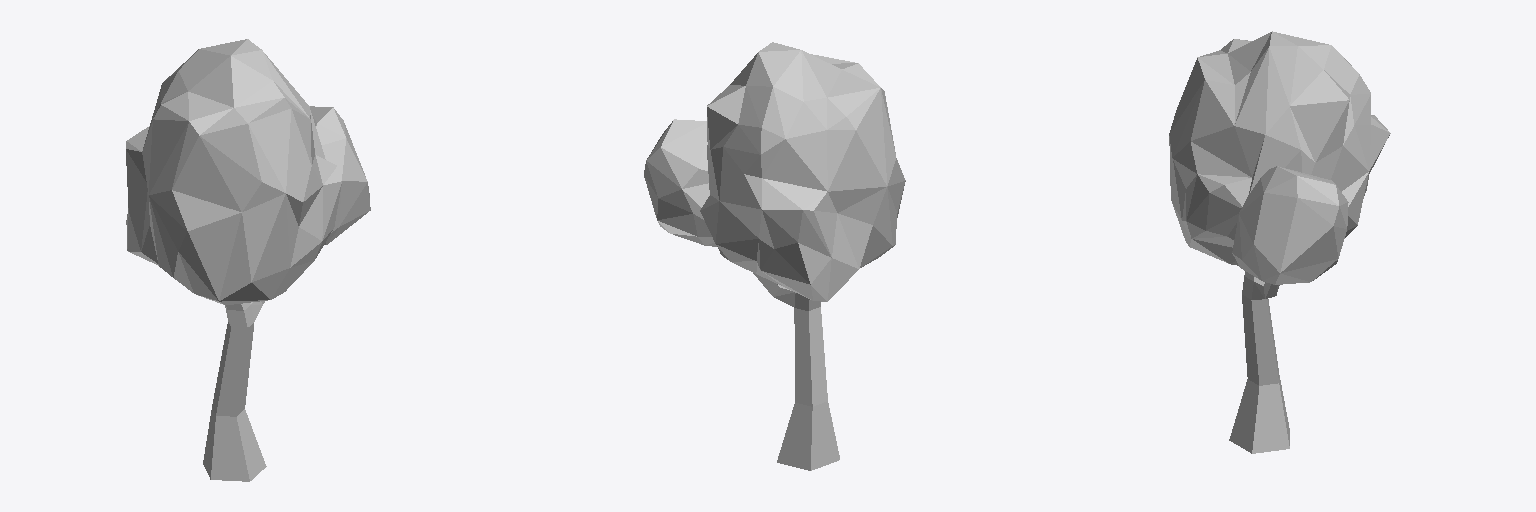
The model's file is paintable_Tree.obj.
The picture shows the model from 3 angles: view 1: azimuth 30°, elevation 25°; view 2: azimuth 150°, elevation 25°; view 3: azimuth 270°, elevation 25°; orthographic projection.
Parts seen in each view (by area): view 1: SM_Generic_Tree_04_Mesh.012; view 2: SM_Generic_Tree_04_Mesh.012; view 3: SM_Generic_Tree_04_Mesh.012.
Boxes of the visible parts, x1=… form: SM_Generic_Tree_04_Mesh.012: x1=126, y1=39, x2=370, y2=481; SM_Generic_Tree_04_Mesh.012: x1=644, y1=42, x2=905, y2=470; SM_Generic_Tree_04_Mesh.012: x1=1169, y1=31, x2=1390, y2=453.
Size of the model in its own units: 1.82 by 3.22 by 1.54.